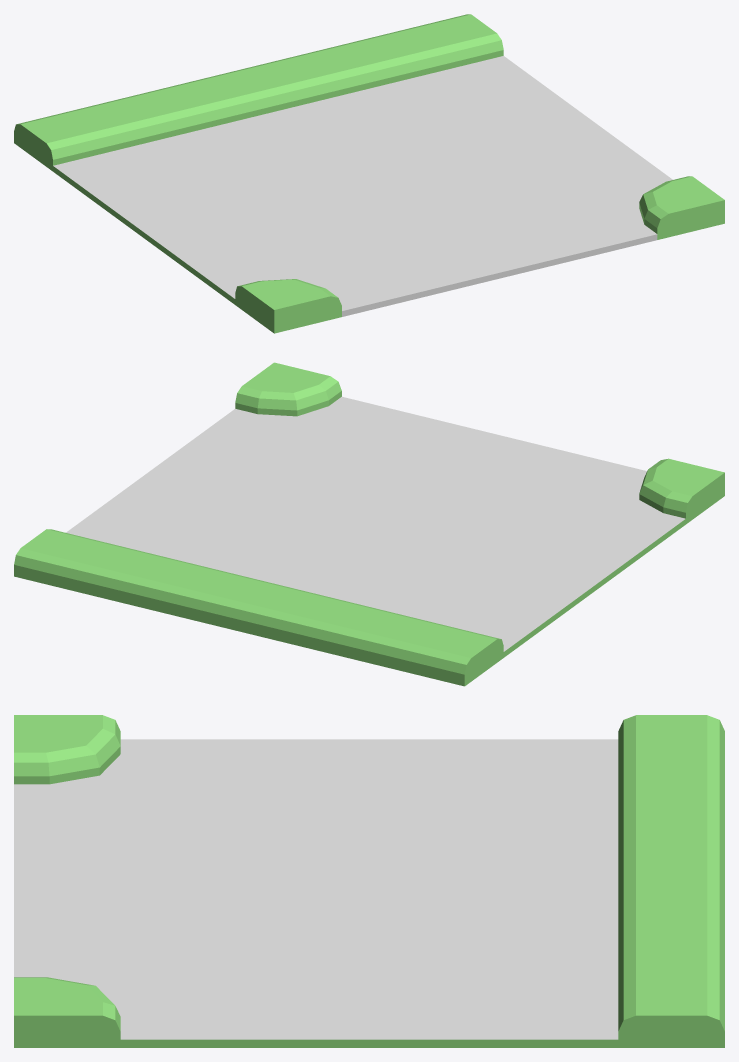
The model's file is Tlook.fbx.
3 renders of one model, top to bottom at view 1: azimuth 30°, elevation 25°; view 2: azimuth 150°, elevation 25°; view 3: azimuth 270°, elevation 25°, orthographic. The views are drawn at different scales.
Visible parts, largest first — view 1: 立方体.005; view 2: 立方体.005; view 3: 立方体.005.
Part boxes in pixels (x1=…): 立方体.005: x1=14, y1=14, x2=724, y2=333; 立方体.005: x1=14, y1=362, x2=724, y2=686; 立方体.005: x1=14, y1=715, x2=724, y2=1047.
Size of the model in its own units: 200 by 10 by 200.
